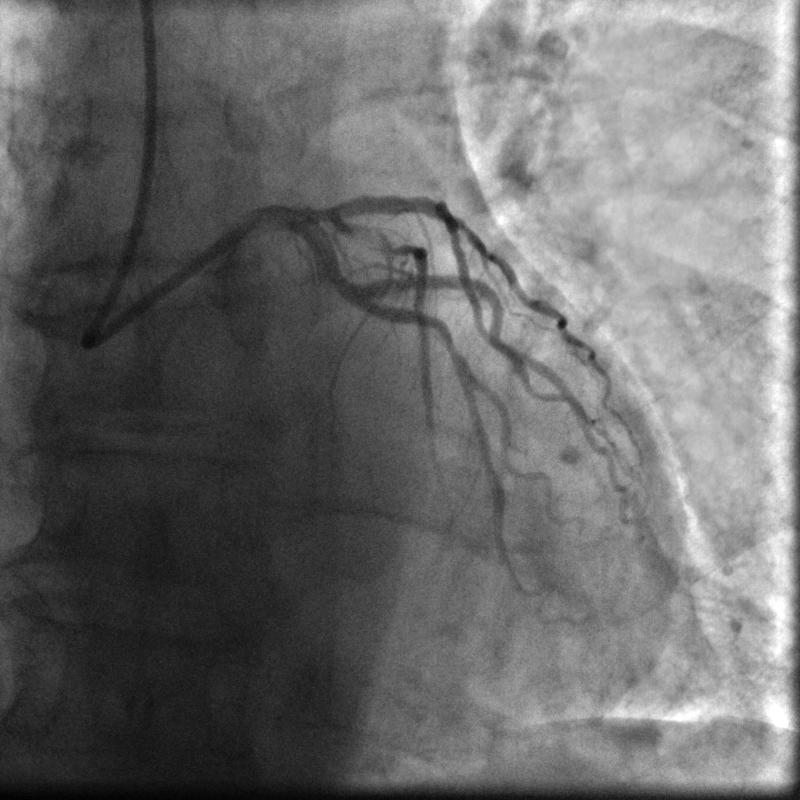Stenosis: (344, 217, 409, 258)
